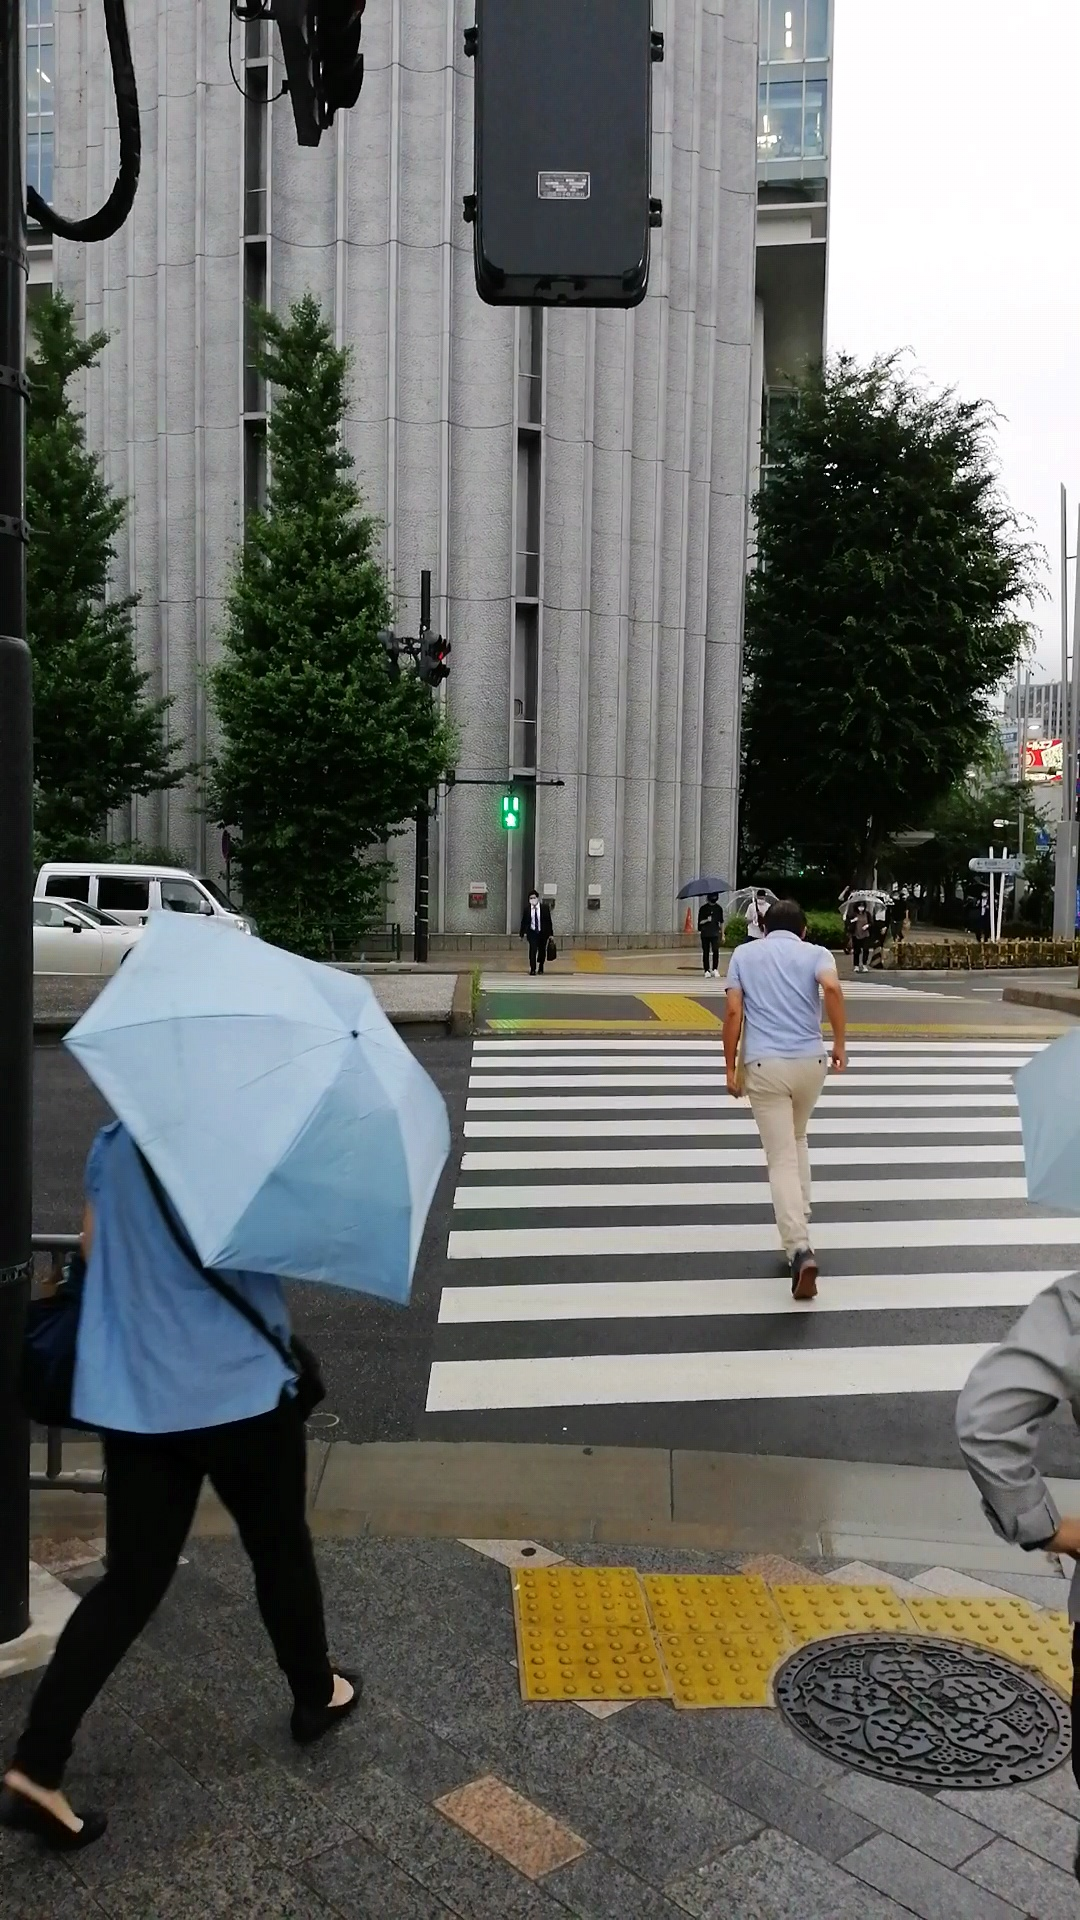green: (500, 793, 521, 831)
